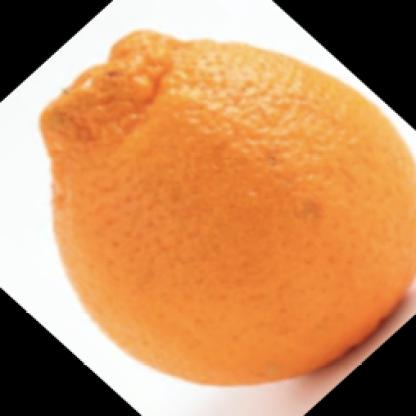fresh: (35, 28, 416, 387)
